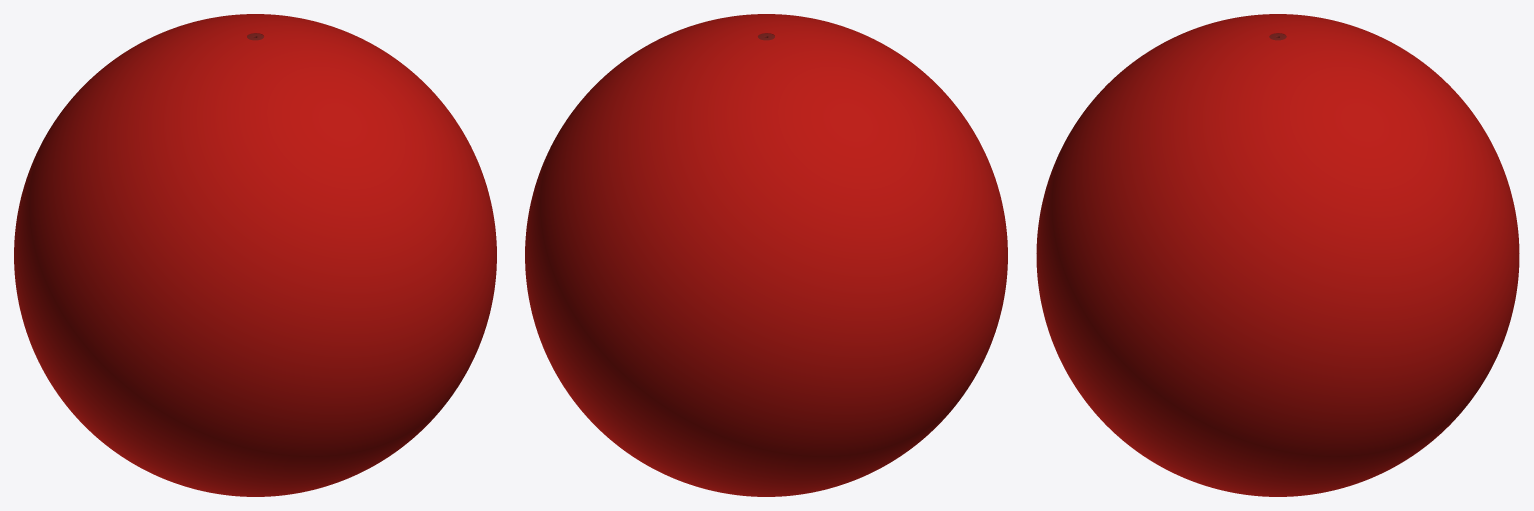
The picture shows the model from 3 angles, left to right: view 1: azimuth 30°, elevation 25°; view 2: azimuth 150°, elevation 25°; view 3: azimuth 270°, elevation 25°; orthographic projection.
Visible parts, largest first — view 1: Outer cover; view 2: Outer cover; view 3: Outer cover.
Part boxes in pixels (x1,y1,x2,y2): Outer cover: [14, 14, 496, 496]; Outer cover: [525, 14, 1007, 496]; Outer cover: [1036, 14, 1519, 496].
Bounding box in the file's own units: 0.156 × 0.1559 × 0.156.
